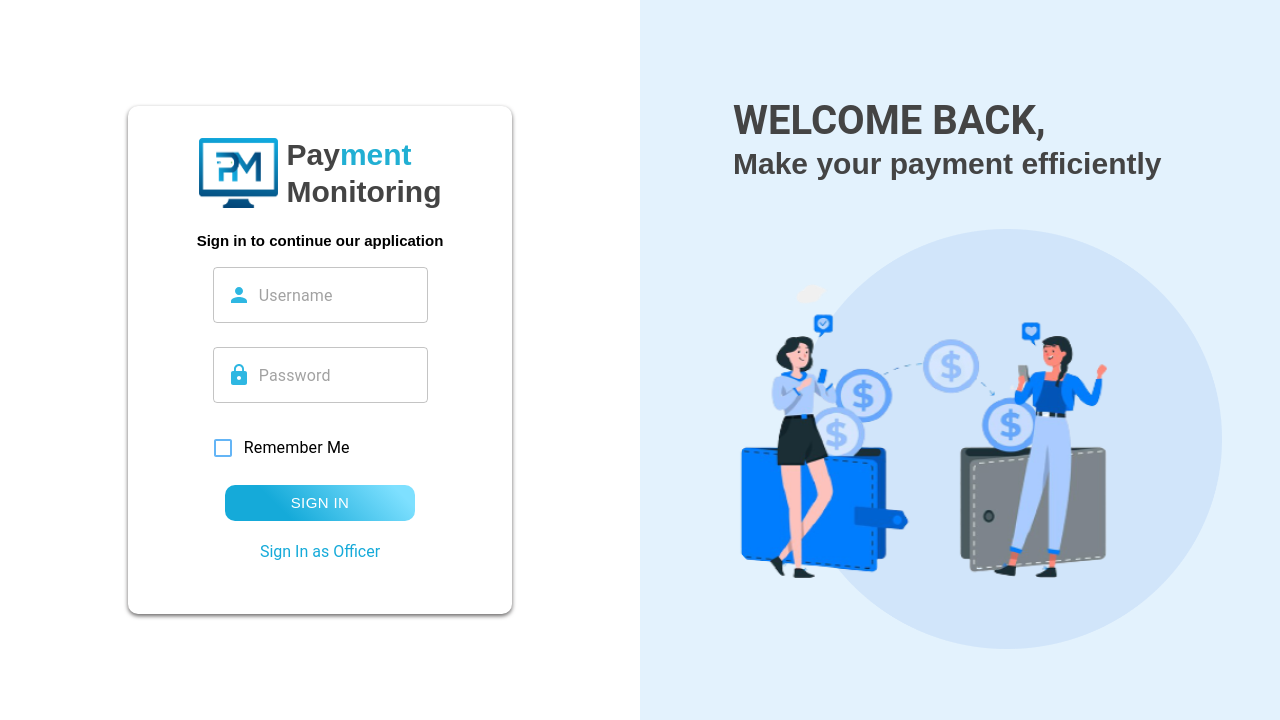
Negative case Customer Login › show error when both input empty
The image size is (1280, 720).
What coordinates should you click on to do the following:
click the button with test id "btn-submit"
I would click on:
 (320, 503)
Its box is [225,485,415,521].
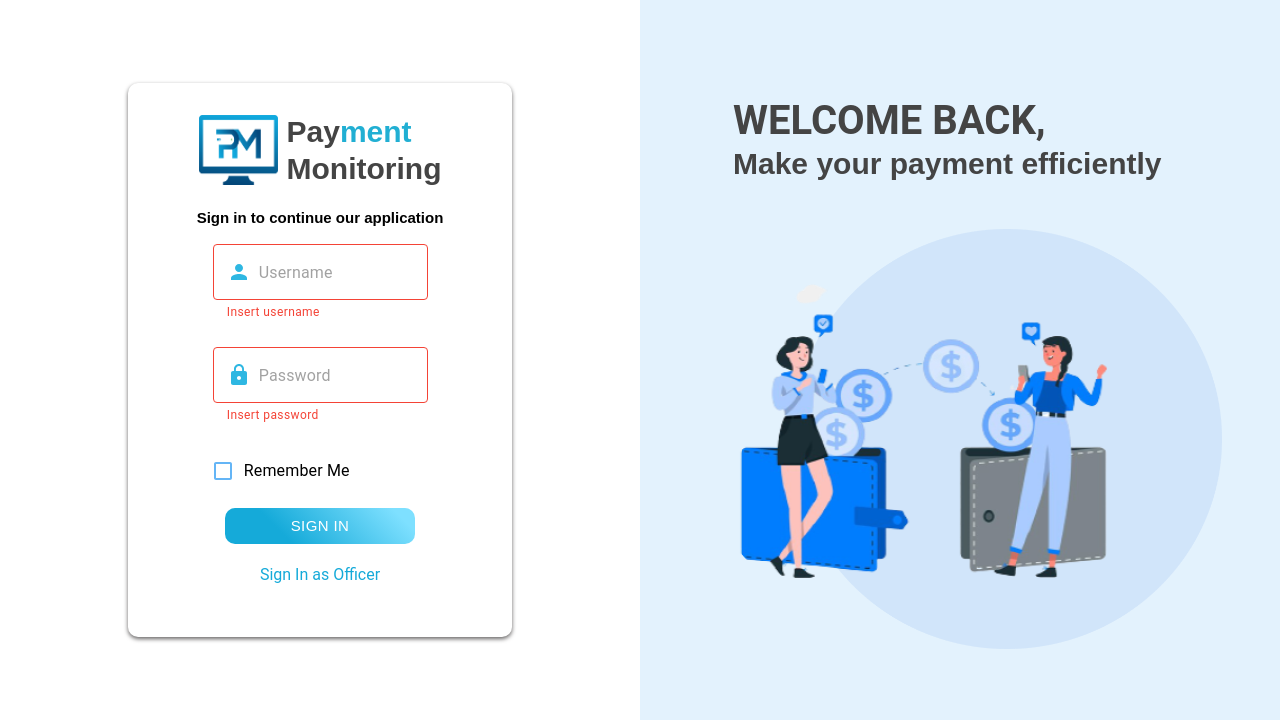
Result: the text "Insert username" is shown at [227,305,320,319]
Result: the text "Insert password" is shown at [227,408,319,422]
